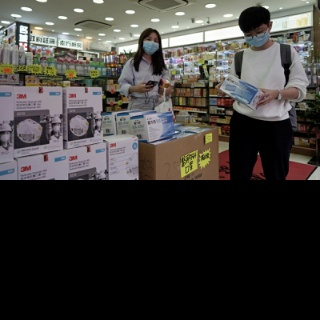with_mask: (244, 25, 270, 48), (141, 36, 160, 56)
